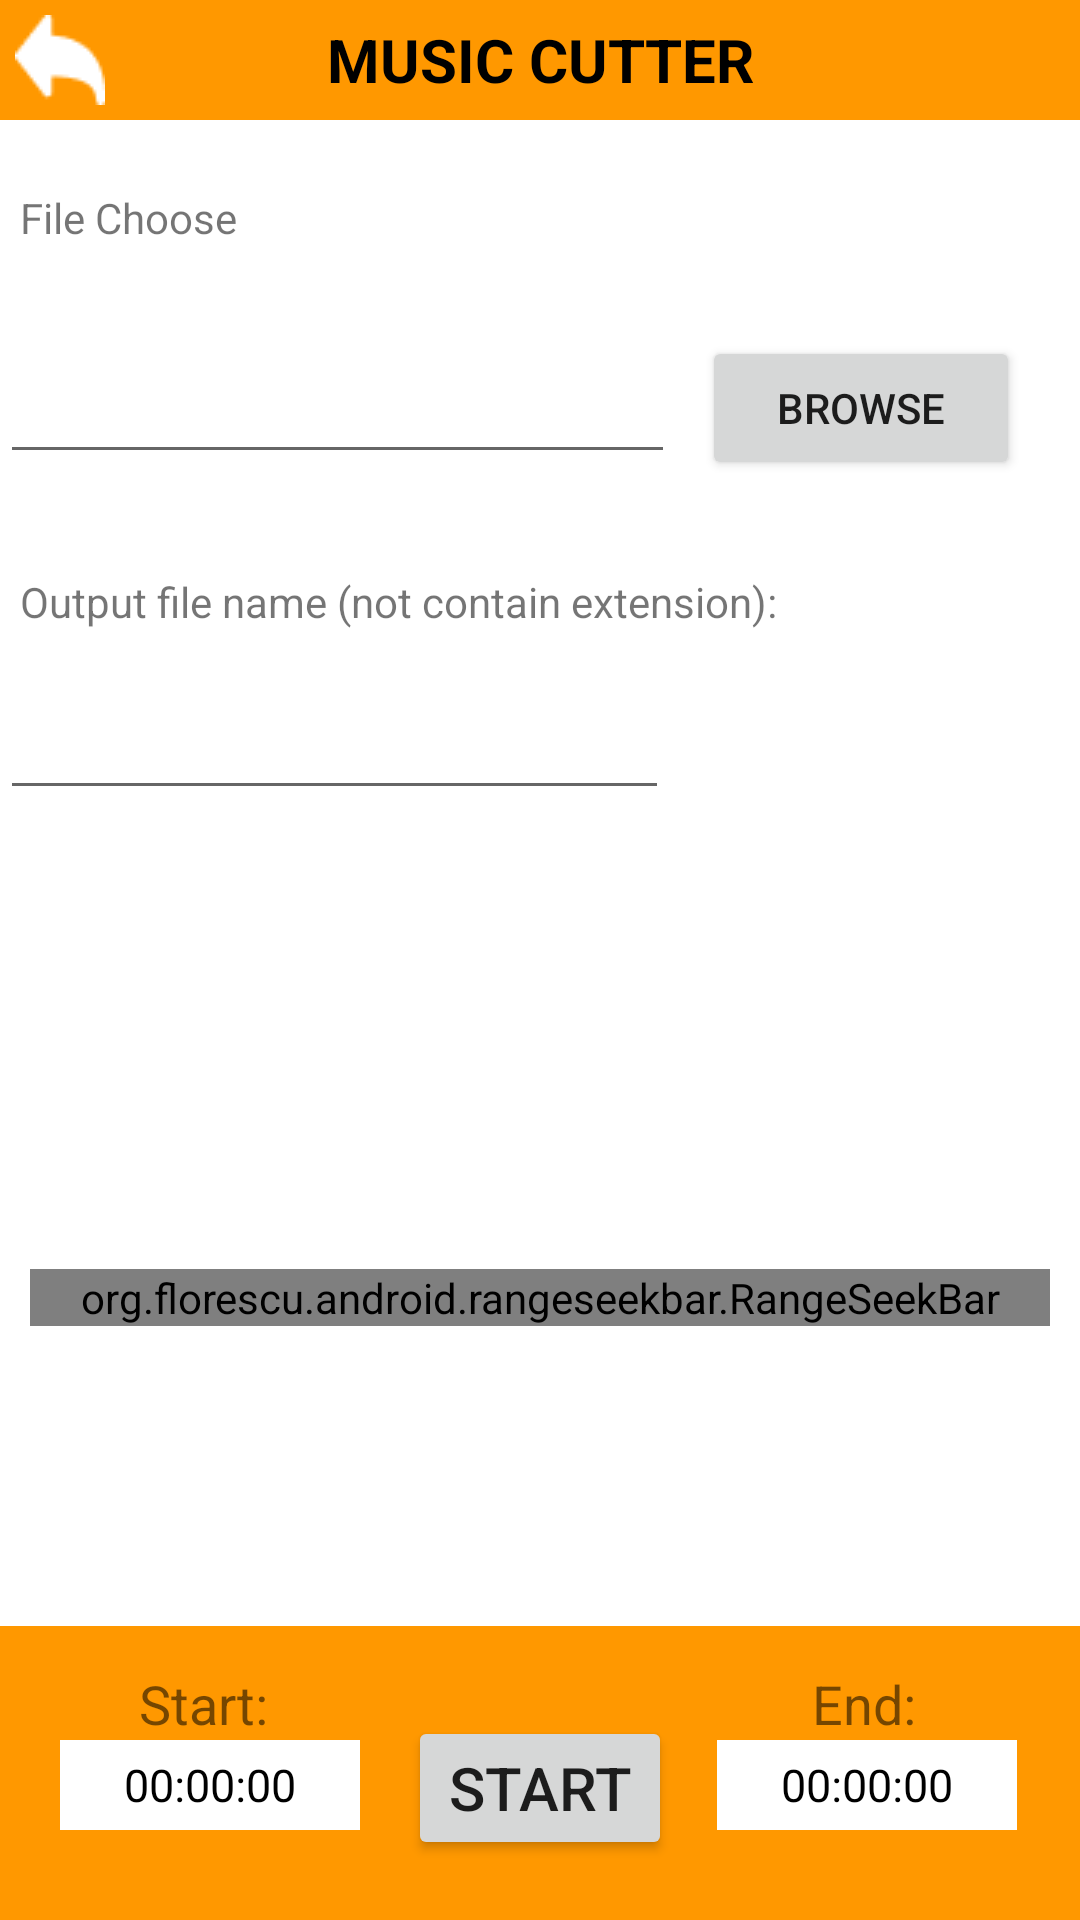

Screen size 1080px×1920px. Icon name, then its center in pixels as (x,y):
back: (60,60)
